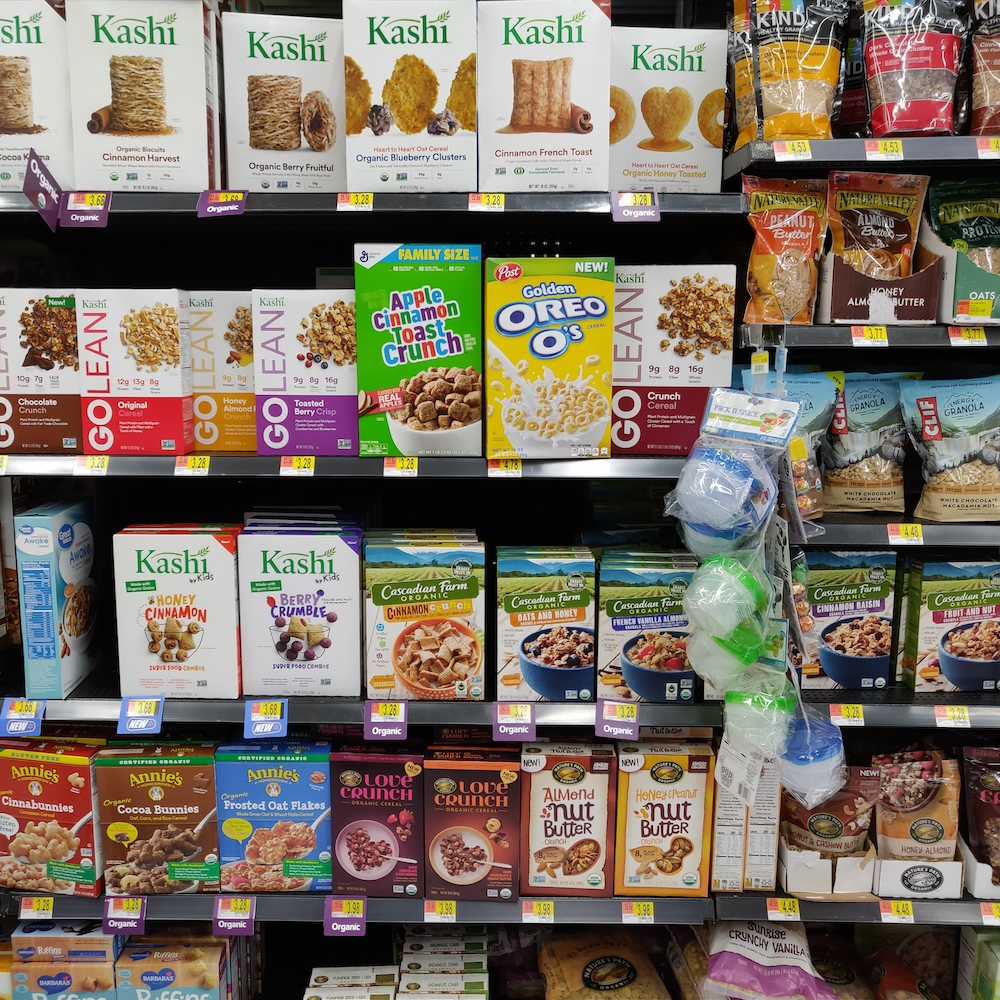Oreo Golden-568301011: (487, 256, 621, 459)
